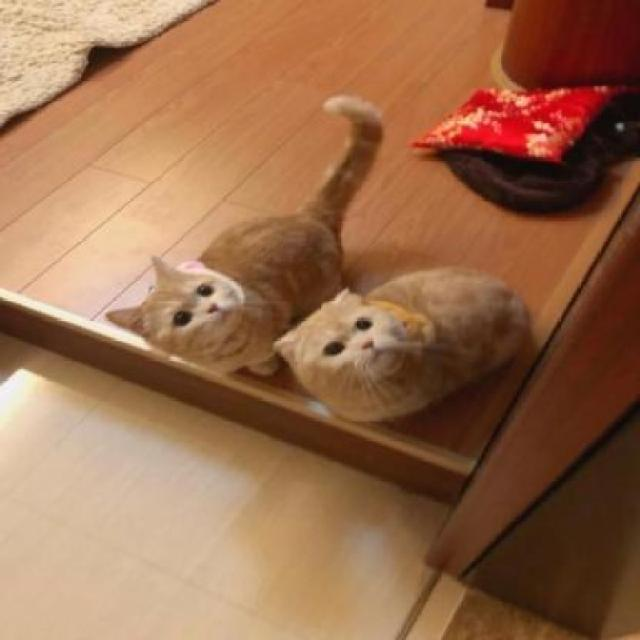cat: (116, 190, 336, 381), (272, 274, 530, 418)
